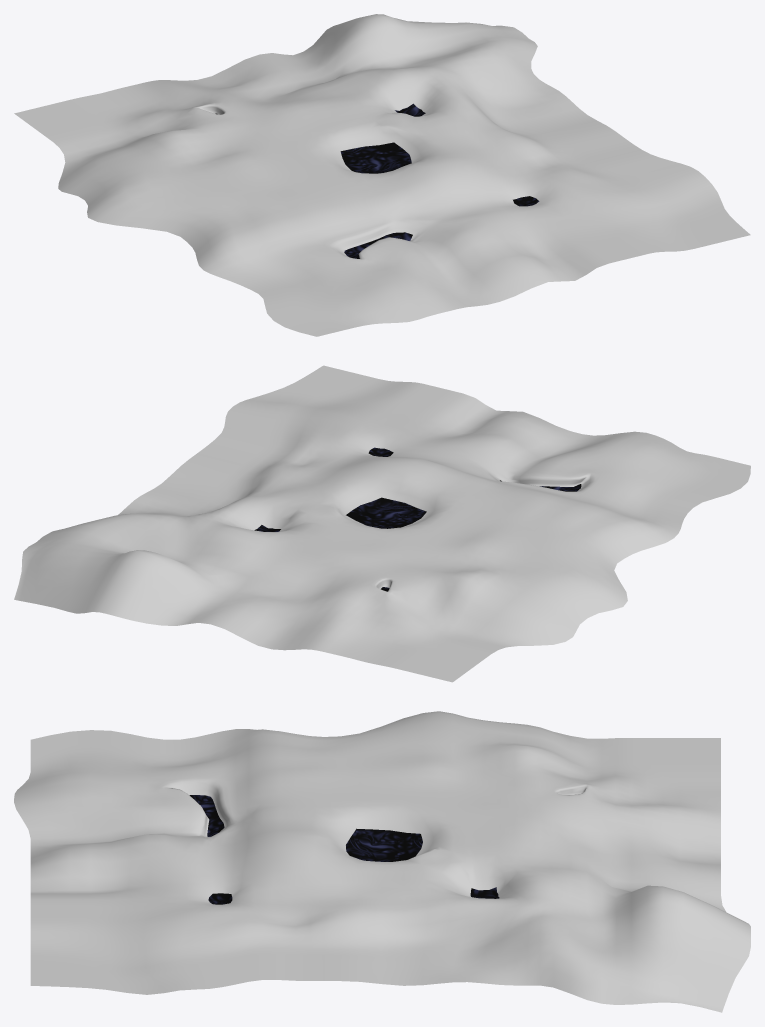
File: LandTest001.FBX
3 views of the same model, one above another, from view 1: azimuth 30°, elevation 25°; view 2: azimuth 150°, elevation 25°; view 3: azimuth 270°, elevation 25° (orthographic). The views are drawn at different scales.
Parts seen in each view (by area): view 1: Land001; view 2: Land001; view 3: Land001.
Boxes of the visible parts, bbox=[...] form: Land001: bbox=[14, 14, 750, 336]; Land001: bbox=[14, 365, 750, 682]; Land001: bbox=[14, 711, 750, 1012].
Bounding box in the file's own units: 12041 × 1213 × 12993.
